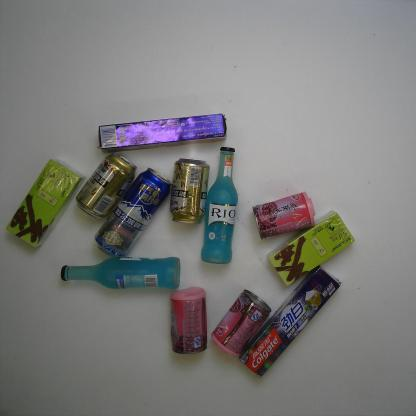Alcohol: (92, 163, 176, 260), (198, 144, 240, 267), (73, 149, 139, 223), (56, 254, 183, 292), (168, 155, 213, 228)
Canned Food: (209, 288, 274, 360), (250, 190, 319, 242), (167, 283, 209, 357)
Instant Drink: (3, 154, 88, 252), (264, 206, 359, 289)
Personal Hygiene: (234, 262, 344, 382), (93, 112, 231, 156)
